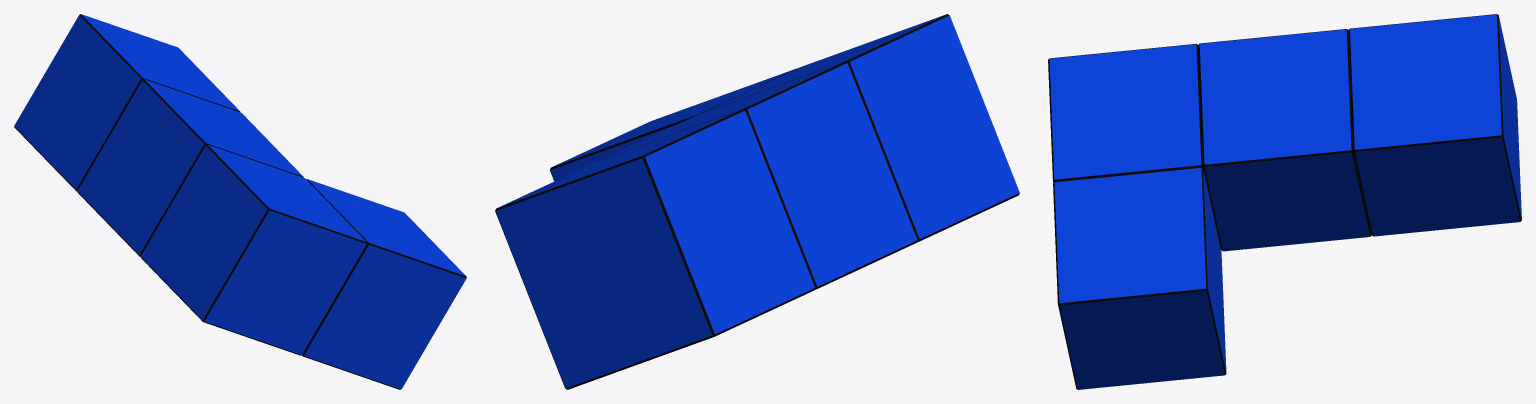
3 views of the same model, side by side, from view 1: azimuth 30°, elevation 25°; view 2: azimuth 150°, elevation 25°; view 3: azimuth 270°, elevation 25° (orthographic). The views are drawn at different scales.
Visible parts, largest first — view 1: Cube.030, Cube.031, Cube.032, Cube.033; view 2: Cube.033, Cube.032, Cube.030, Cube.031; view 3: Cube.031, Cube.033, Cube.032, Cube.030.
Part boxes in pixels (x1=…): Cube.030: x1=140, y1=144, x2=367, y2=355; Cube.031: x1=301, y1=179, x2=466, y2=389; Cube.032: x1=77, y1=79, x2=303, y2=256; Cube.033: x1=14, y1=14, x2=240, y2=191; Cube.033: x1=495, y1=109, x2=814, y2=389; Cube.032: x1=599, y1=61, x2=917, y2=289; Cube.030: x1=701, y1=14, x2=1019, y2=242; Cube.031: x1=550, y1=68, x2=797, y2=181; Cube.031: x1=1053, y1=167, x2=1226, y2=389; Cube.033: x1=1348, y1=14, x2=1521, y2=236; Cube.032: x1=1198, y1=29, x2=1371, y2=251; Cube.030: x1=1048, y1=43, x2=1221, y2=250.
Size of the model in its own units: 225 by 221 by 313.
